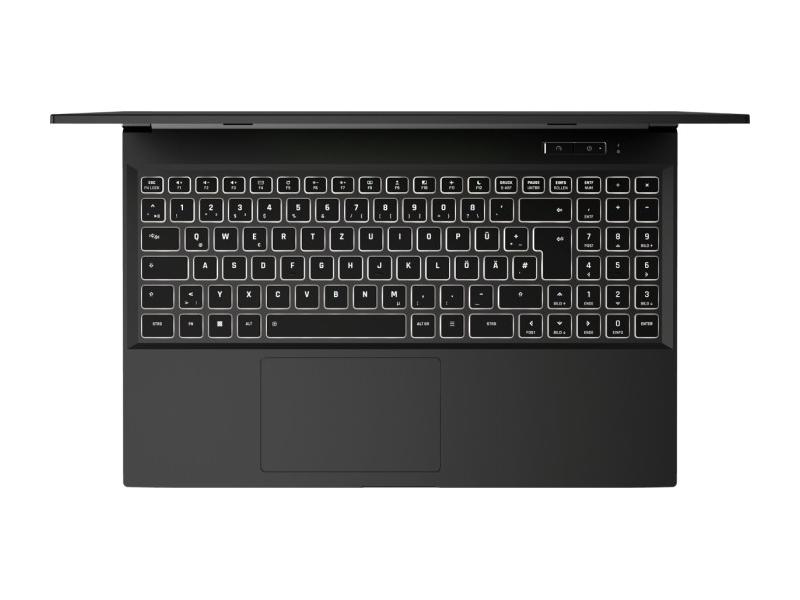0: (429, 195, 454, 220)
1: (168, 195, 193, 220)
2: (196, 195, 222, 220)
3: (225, 195, 251, 220)
4: (255, 195, 280, 220)
5: (285, 195, 310, 220)
6: (313, 195, 338, 220)
7: (342, 195, 367, 220)
8: (371, 195, 396, 220)
9: (400, 195, 425, 220)
a: (191, 253, 216, 277)
accent: (487, 195, 512, 220)
ae: (481, 253, 506, 278)
alt-left: (235, 311, 260, 336)
altgr-right: (408, 311, 434, 336)
b: (322, 282, 347, 306)
c: (264, 282, 289, 306)
caret: (139, 195, 164, 220)
comma: (409, 282, 433, 307)
d: (249, 253, 274, 278)
del: (517, 195, 570, 220)
e: (240, 224, 265, 248)
enter: (531, 223, 570, 278)
f: (278, 253, 303, 277)
g: (307, 253, 332, 277)
h: (336, 253, 361, 277)
hash: (510, 253, 535, 278)
i: (386, 223, 410, 248)
j: (365, 253, 390, 278)
k: (394, 253, 419, 278)
keyboard: (130, 165, 670, 345)
l: (423, 253, 448, 277)
less: (177, 282, 201, 306)
m: (379, 282, 405, 307)
minus: (467, 282, 492, 306)
n: (351, 282, 376, 306)
o: (415, 224, 439, 249)
oe: (452, 253, 477, 278)
p: (443, 223, 468, 249)
plus: (501, 224, 526, 249)
point: (438, 282, 463, 306)
q: (182, 224, 207, 249)
r: (270, 224, 294, 249)
s: (220, 253, 245, 278)
shift-left: (137, 282, 172, 307)
shift-lock: (139, 253, 187, 278)
shift-right: (496, 282, 541, 307)
space: (264, 311, 406, 339)
ss: (458, 195, 483, 220)
strg-left: (140, 313, 176, 338)
strg-right: (467, 311, 514, 336)
t: (299, 224, 323, 249)
tab: (138, 224, 178, 249)
u: (357, 224, 381, 249)
ue: (473, 224, 497, 249)
v: (293, 282, 318, 306)
w: (211, 224, 236, 249)
x: (235, 282, 260, 306)
y: (206, 282, 231, 306)
z: (328, 224, 352, 249)
